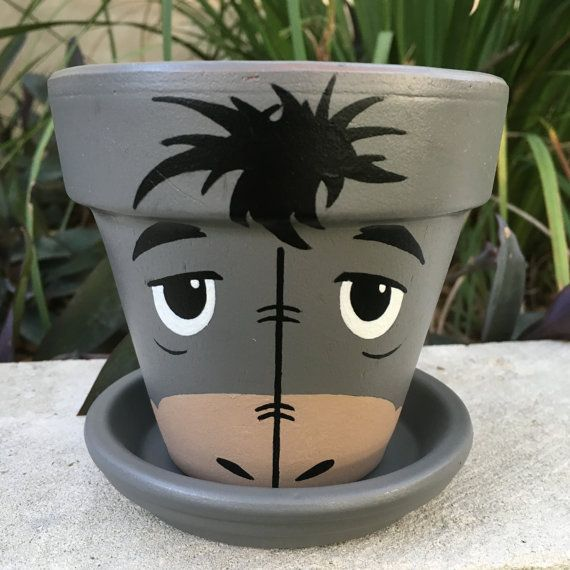tire: (35, 65, 511, 548)
